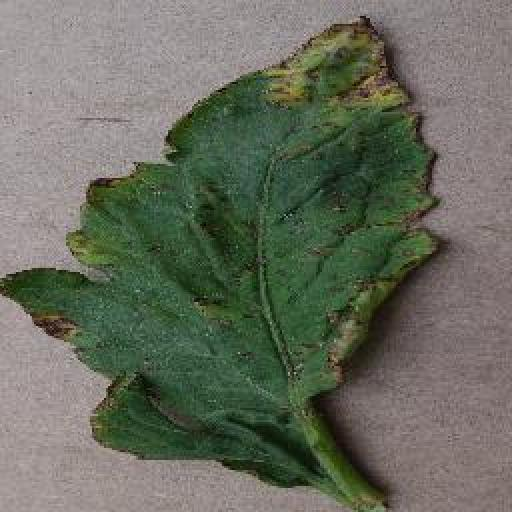Bacterial Spot: (0, 10, 444, 494)
